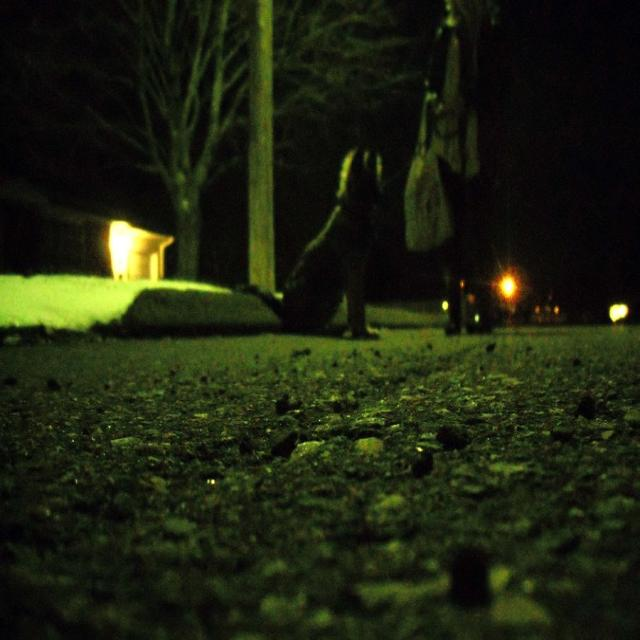dog: (233, 119, 384, 331)
